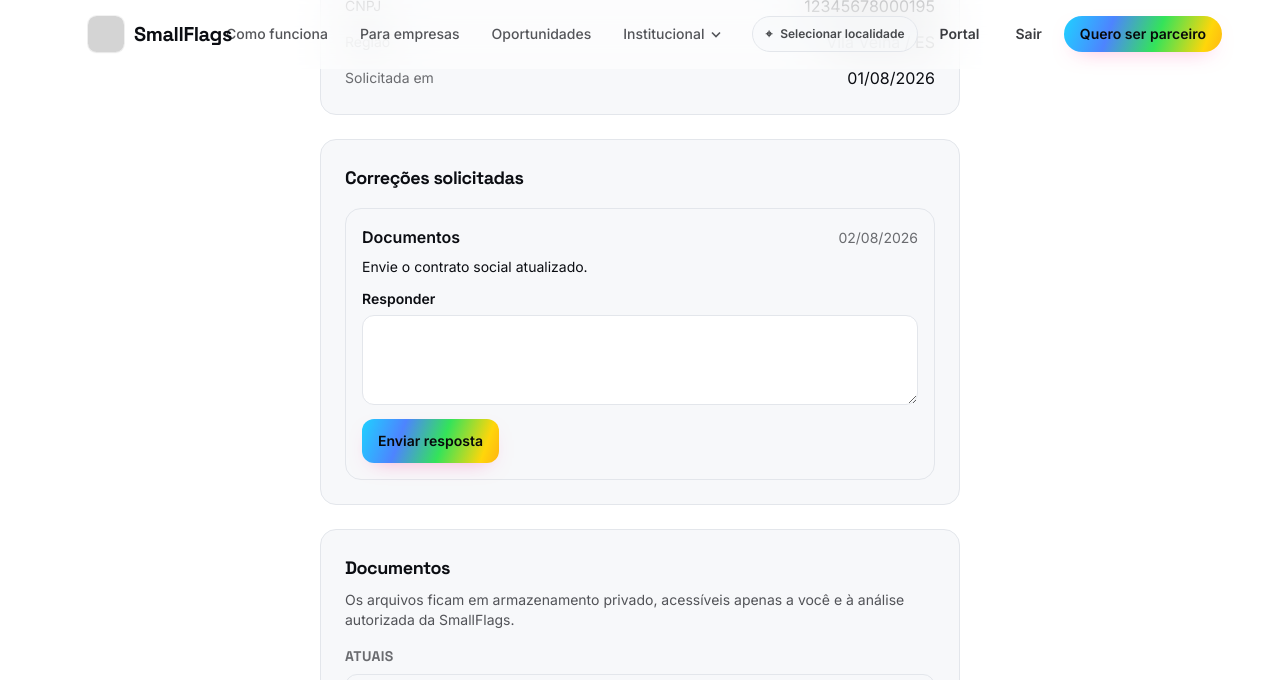
it: B9 — documentos e versionamento › erro exibido nao vaza SQL, constraint nem bucket
(page scrolled)
Type "resposta" into the text box labelled "Responder" at (640, 360), box [362, 315, 918, 405]
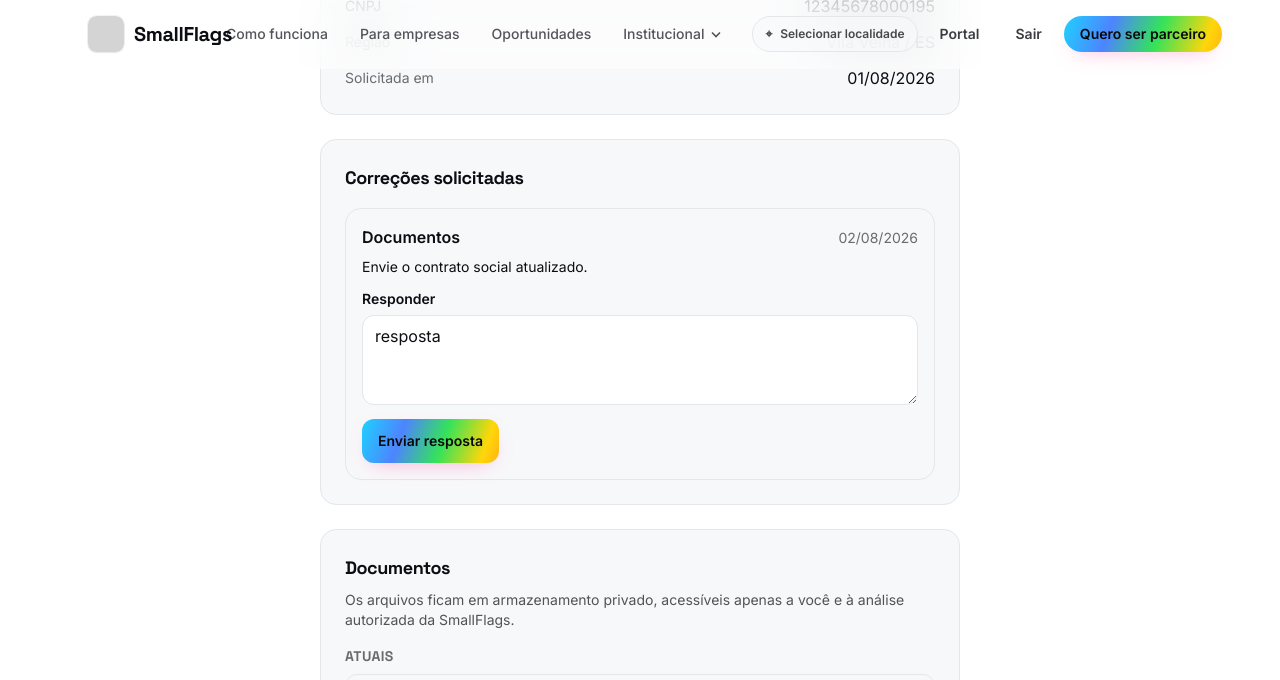
Click the button "Enviar resposta" at (430, 441), box [362, 419, 499, 463]
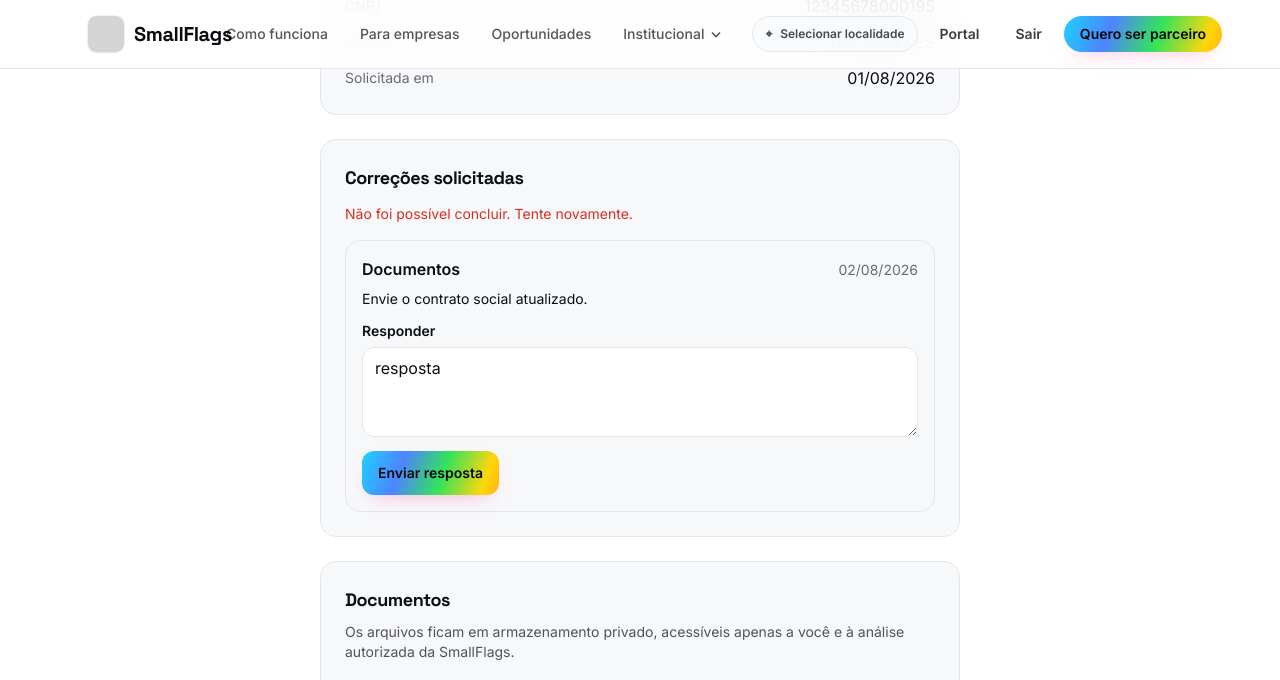
Expected: the text "Não foi possível concluir. Tente novamente." is shown, [345, 205, 633, 222]
